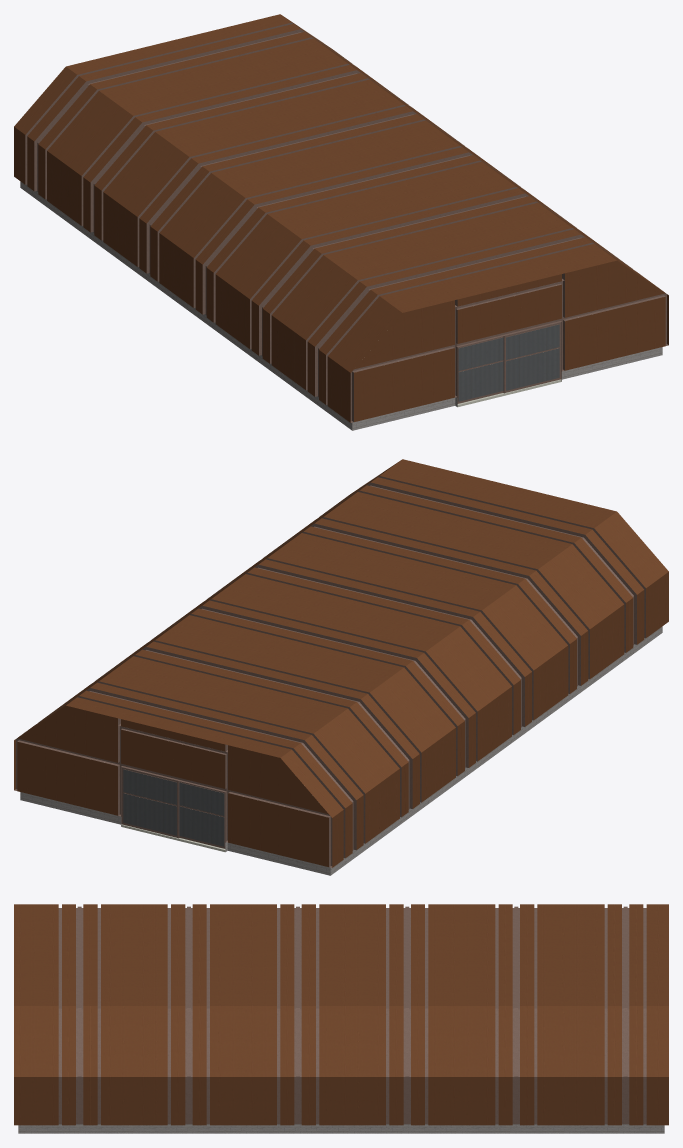
Rendered from hangar.glb.
The picture shows the model from 3 angles, top to bottom: view 1: azimuth 30°, elevation 25°; view 2: azimuth 150°, elevation 25°; view 3: azimuth 270°, elevation 25°; orthographic projection. The views are drawn at different scales.
Visible parts, largest first — view 1: Material2 (×4); view 2: Material2 (×4); view 3: Material2 (×3).
Part boxes in pixels (bbox=[...]): Material2 (×4): bbox=[14, 14, 668, 430]; Material2 (×4): bbox=[14, 459, 668, 875]; Material2 (×3): bbox=[14, 904, 668, 1133].
Bounding box in the file's own units: 766 × 248 × 1404.
Materials: 9 (9 with a texture image).
